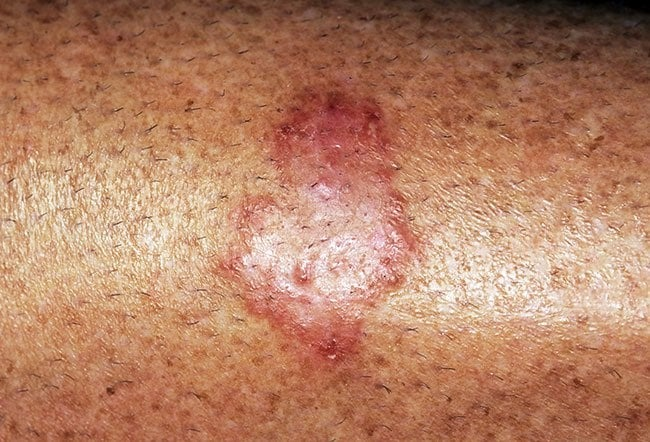Ringworm: (216, 63, 437, 362)
